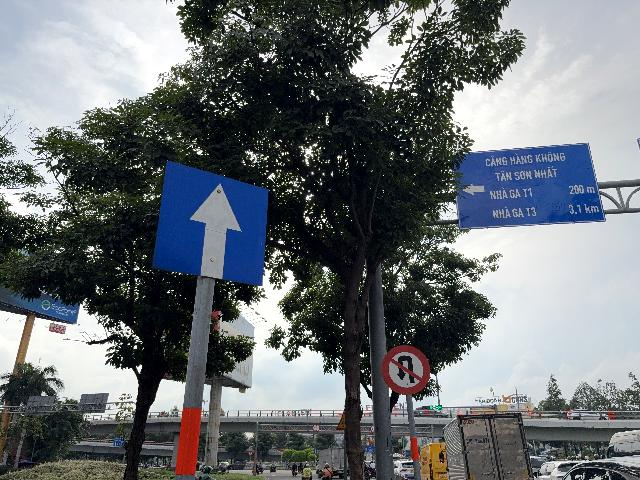cam-quay-dau-xe: (381, 344, 430, 395)
duong-mot-chieu: (151, 161, 269, 287)
